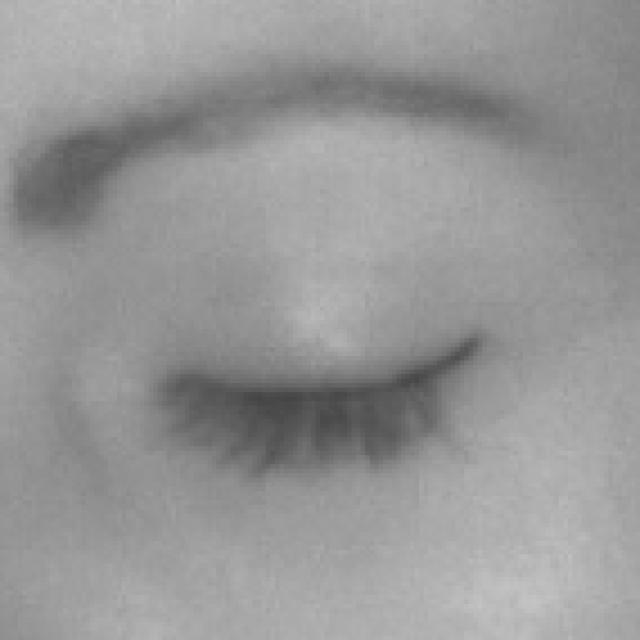close: (0, 49, 604, 550)
